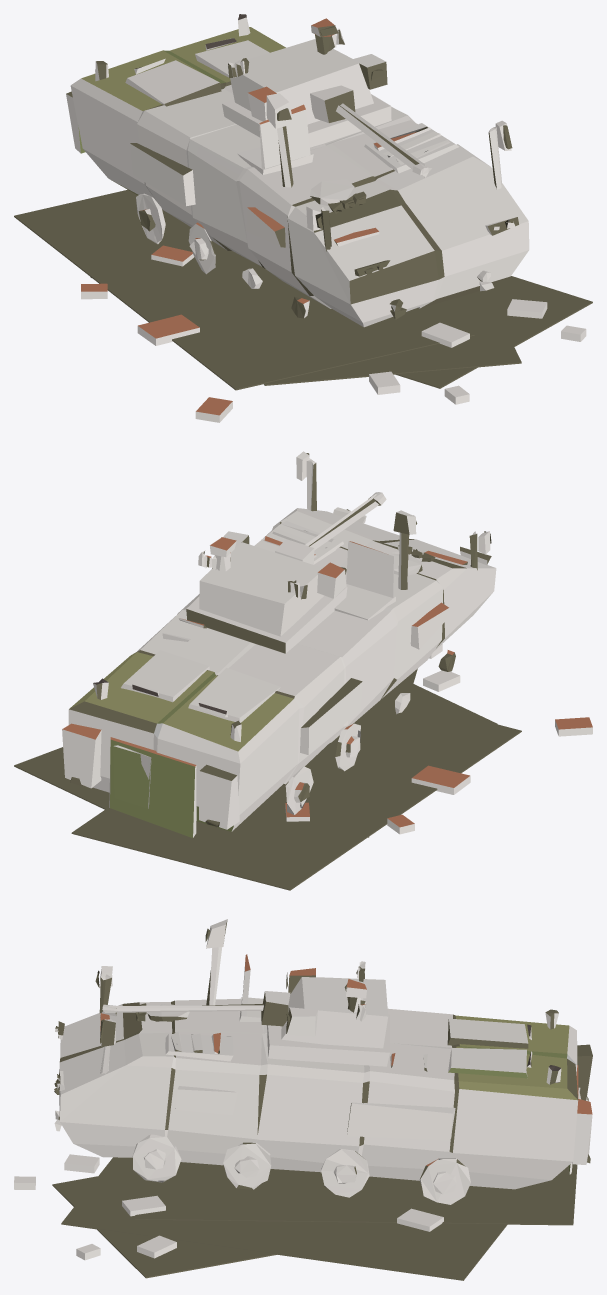
File: SM_RestosDragon_v4_LOD0.fbx
3 renders of one model, top to bottom at view 1: azimuth 30°, elevation 25°; view 2: azimuth 150°, elevation 25°; view 3: azimuth 270°, elevation 25°, orthographic. The views are drawn at different scales.
Parts seen in each view (by area): view 1: SM_bloques.restos_dragon_v4_LOD0; view 2: SM_bloques.restos_dragon_v4_LOD0; view 3: SM_bloques.restos_dragon_v4_LOD0.
Boxes of the visible parts, bbox=[...] form: SM_bloques.restos_dragon_v4_LOD0: bbox=[14, 14, 592, 422]; SM_bloques.restos_dragon_v4_LOD0: bbox=[14, 451, 592, 890]; SM_bloques.restos_dragon_v4_LOD0: bbox=[14, 919, 592, 1280].
Bounding box in the file's own units: 7.13 × 3.93 × 8.98.
